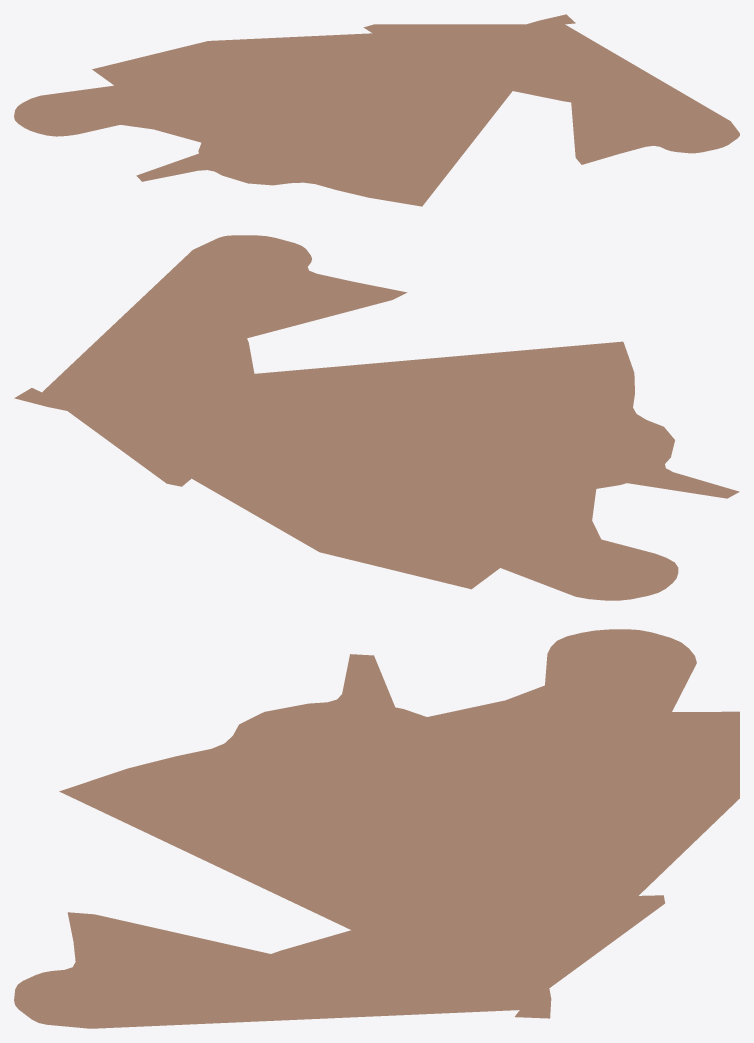
The model's file is KiesWege.fbx.
3 views of the same model, one above another, from view 1: azimuth 30°, elevation 25°; view 2: azimuth 150°, elevation 25°; view 3: azimuth 270°, elevation 25° (orthographic). The views are drawn at different scales.
Parts seen in each view (by area): view 1: Kies; view 2: Kies; view 3: Kies.
Boxes of the visible parts, x1,y1,x2,y2 form: Kies: (14, 14, 739, 206); Kies: (14, 235, 739, 600); Kies: (14, 629, 739, 1028).
Size of the model in its own units: 13622 by 7.63e-06 by 10458.
